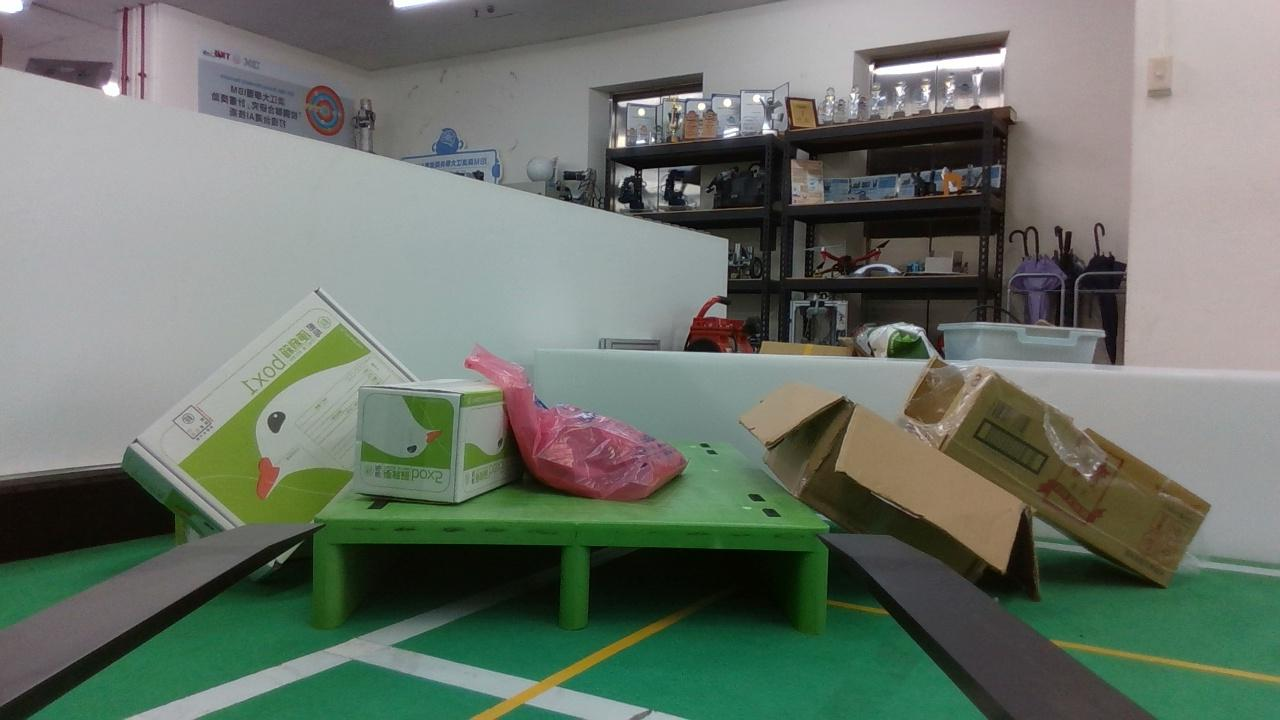Pallet: (311, 517, 829, 632)
